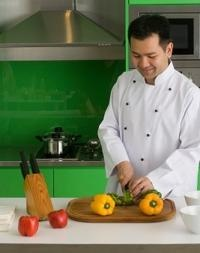person without safety: (96, 14, 200, 197)
